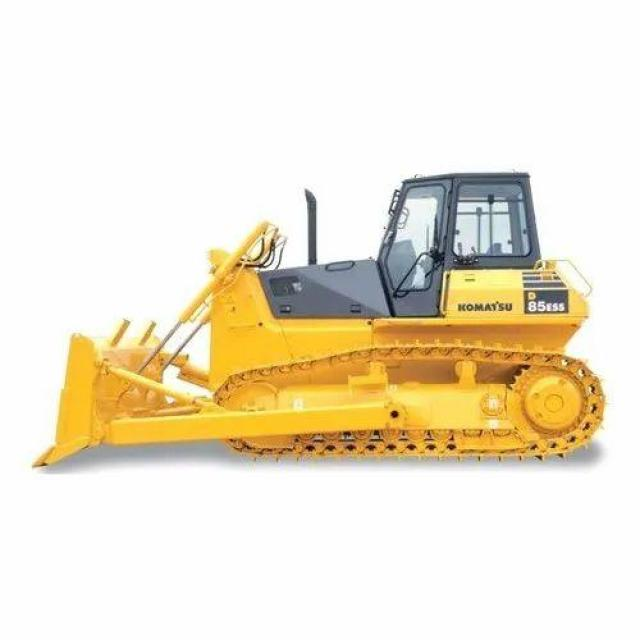buldozerpayloadergrader: (40, 114, 622, 493)
